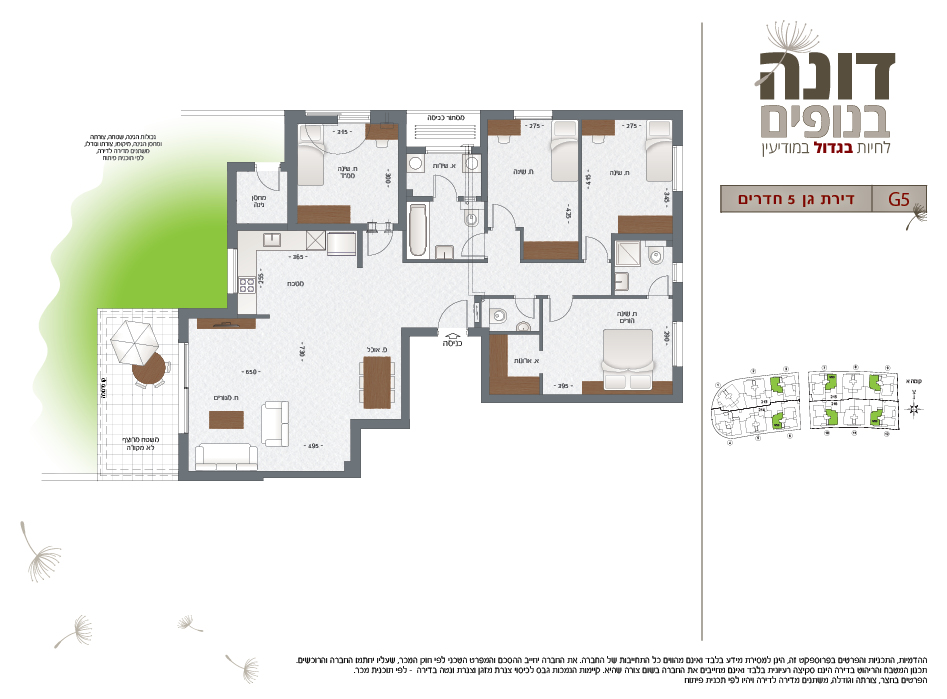door: (435, 298, 471, 325), (459, 232, 487, 259), (429, 171, 457, 198), (489, 201, 516, 225), (512, 297, 539, 321), (583, 236, 610, 260), (546, 300, 573, 324), (643, 272, 670, 296)
wall: (482, 395, 682, 402), (553, 110, 683, 119), (398, 109, 407, 230), (238, 222, 367, 230), (401, 327, 410, 428), (284, 110, 298, 171), (228, 161, 237, 247), (189, 470, 264, 480), (673, 191, 683, 264), (287, 171, 297, 223), (189, 307, 236, 318), (350, 418, 401, 428), (178, 434, 188, 480), (672, 282, 683, 322), (351, 429, 360, 477), (178, 307, 188, 342)
window: (177, 343, 187, 434), (227, 249, 238, 295), (513, 110, 552, 121), (336, 115, 369, 124)
